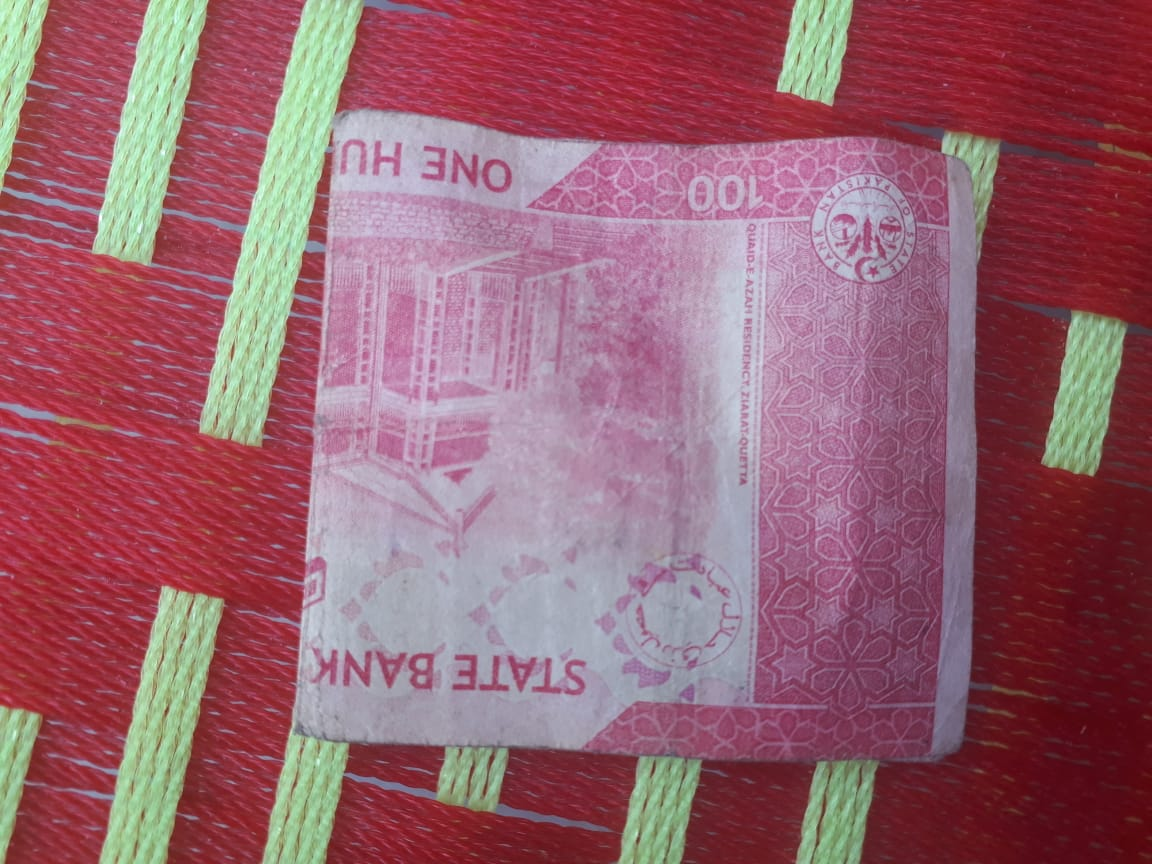100 rupee: (293, 107, 988, 770)
